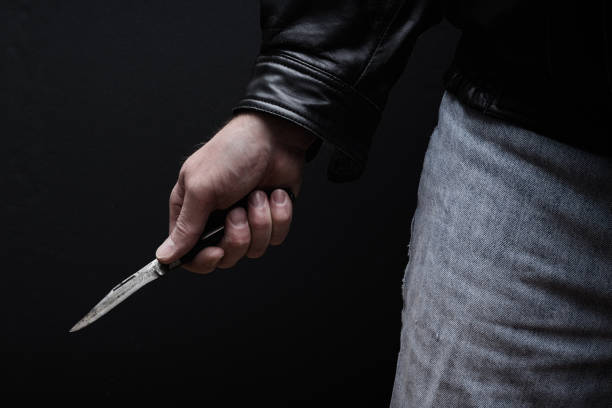knife: (67, 217, 228, 334)
